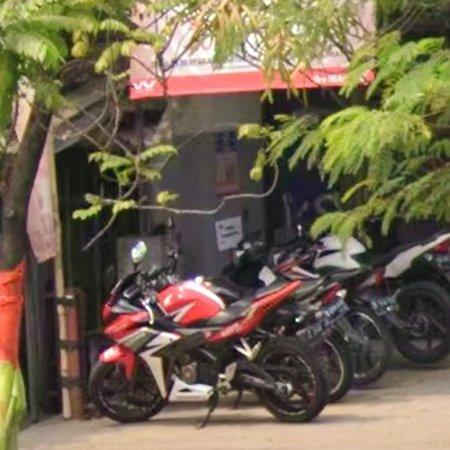motorcycles: (89, 271, 328, 423), (272, 233, 450, 363)
